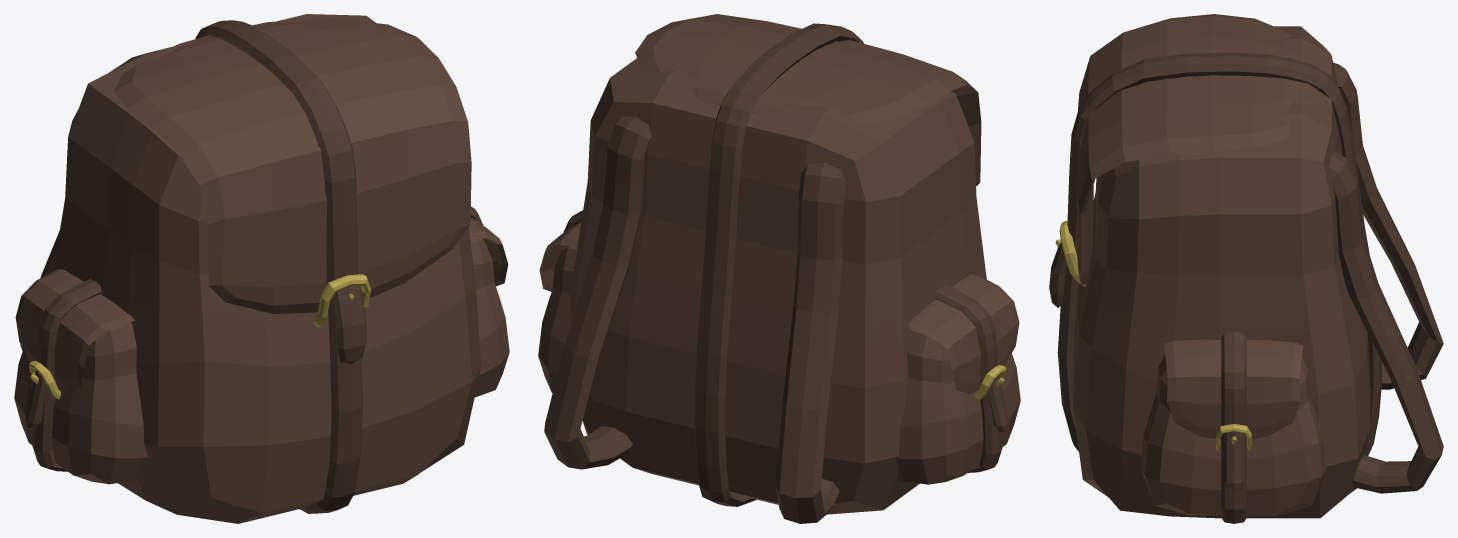
File: bag.glb
3 renders of one model, left to right at view 1: azimuth 30°, elevation 25°; view 2: azimuth 150°, elevation 25°; view 3: azimuth 270°, elevation 25°, orthographic. The views are drawn at different scales.
Parts seen in each view (by area): view 1: Backpack; view 2: Backpack; view 3: Backpack.
Boxes of the visible parts, left/top/right/bottom form: Backpack: left=14, top=14, right=509, bottom=523; Backpack: left=538, top=14, right=1020, bottom=523; Backpack: left=1049, top=14, right=1443, bottom=523.
Bounding box in the file's own units: 1.07 × 0.9506 × 0.8037.
